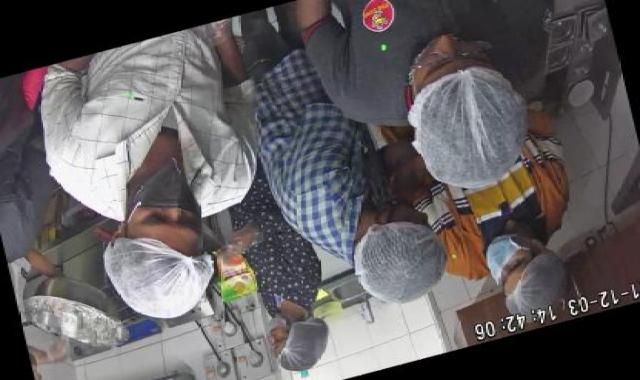hairnet: (408, 64, 539, 189), (86, 238, 218, 324), (363, 219, 447, 304), (496, 241, 590, 315), (263, 312, 341, 368)
